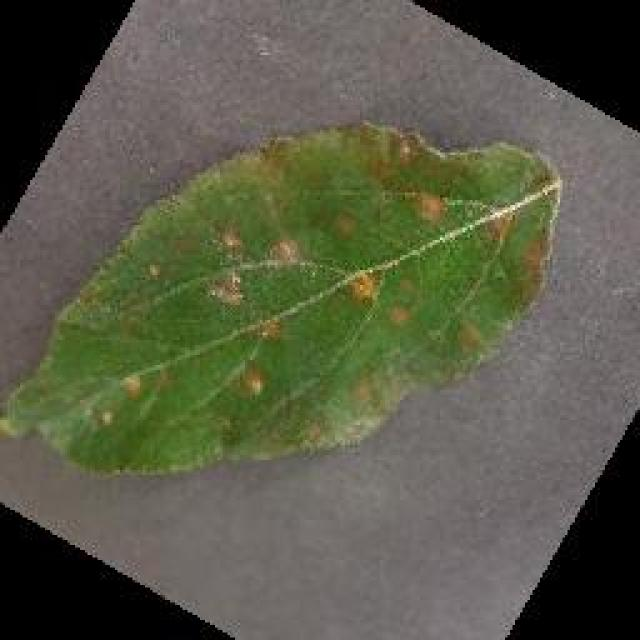apple scab disease: (0, 117, 562, 477)
